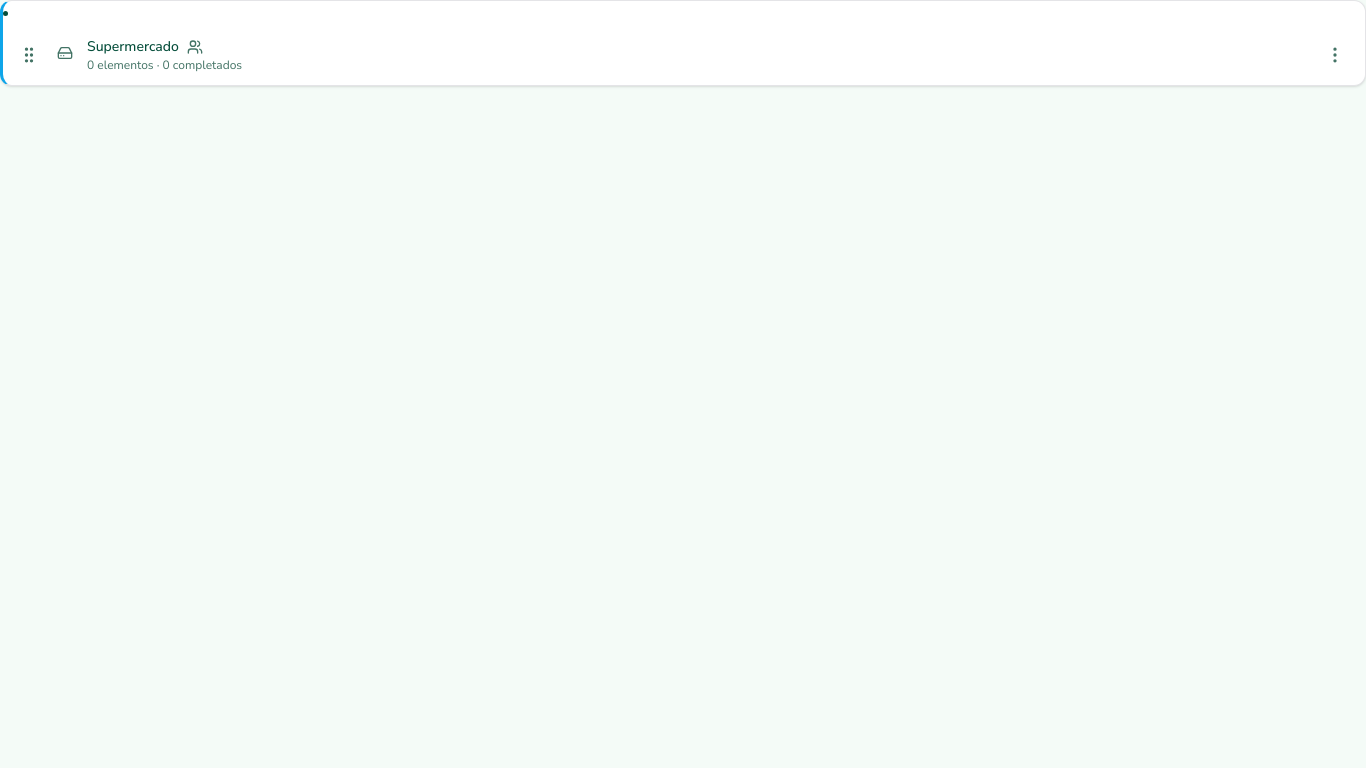
Test: ListCard › abre el modal al hacer click en el tag y fetchea miembros on-demand
The image size is (1366, 768).
Click the button named "Ver con quién se compartió". click: (195, 47)
box: [185,37,205,57]
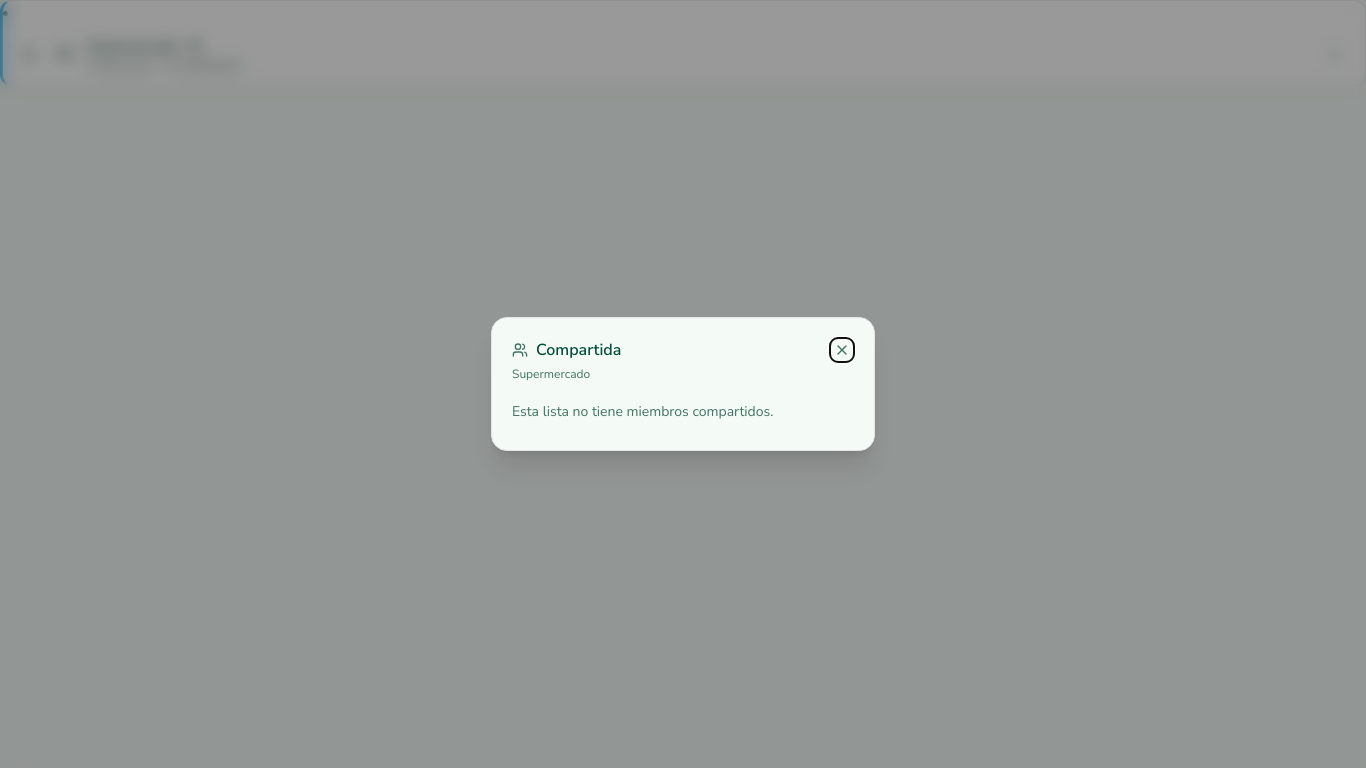
Result: the dialog "Compartida" is shown
